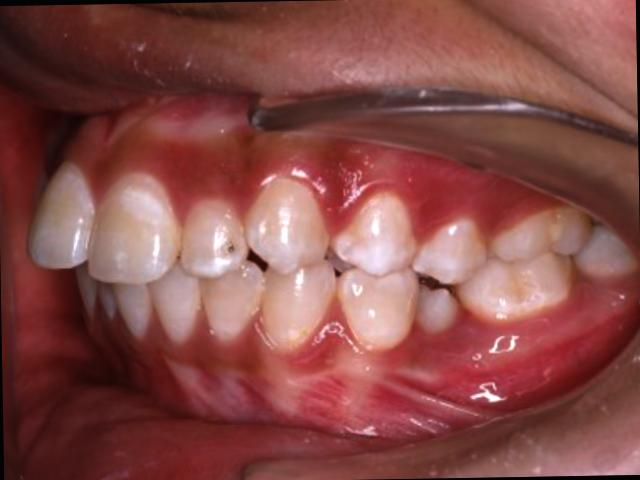molar class I: (452, 199, 597, 328)
molar class II 3/4: (244, 175, 420, 363)
